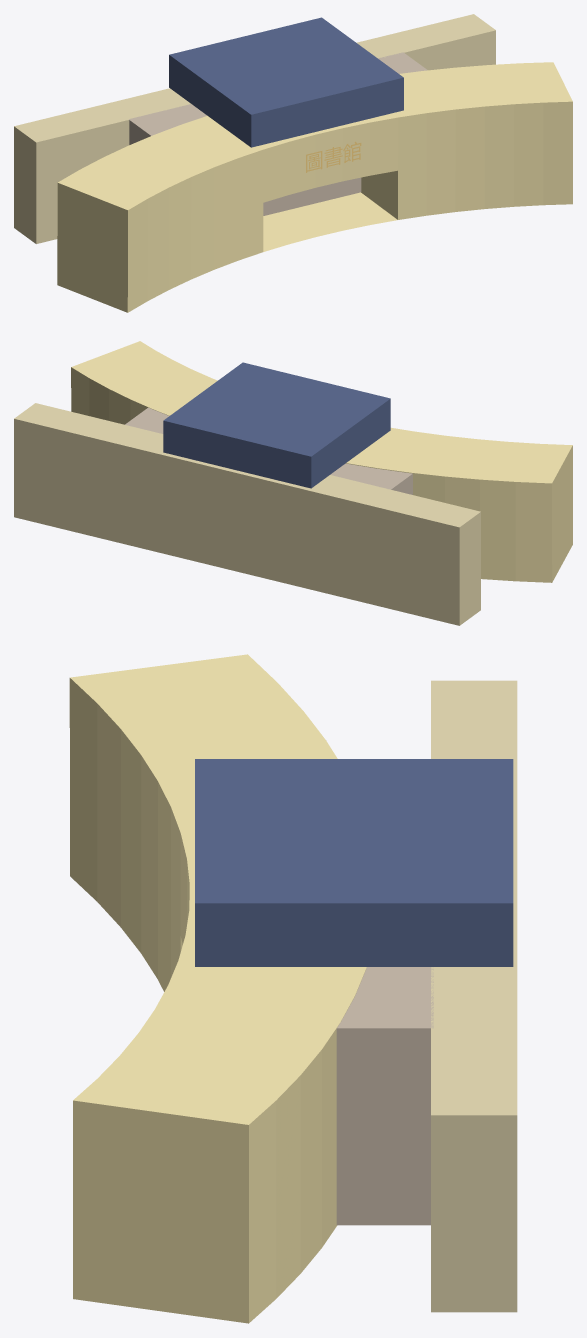
The model's file is 图书馆2.glb.
The picture shows the model from 3 angles, top to bottom: view 1: azimuth 30°, elevation 25°; view 2: azimuth 150°, elevation 25°; view 3: azimuth 270°, elevation 25°; orthographic projection. The views are drawn at different scales.
Parts seen in each view (by area): view 1: Cube, 平面, 立方体.001, 立方体, 文本; view 2: 立方体.001, Cube, 平面, 立方体; view 3: Cube, 平面, 立方体.001, 立方体.
Boxes of the visible parts, <box> form: Cube: <box>57,62,572,312</box>; 平面: <box>169,17,403,147</box>; 立方体.001: <box>14,14,495,243</box>; 立方体: <box>129,52,427,215</box>; 文本: <box>306,142,361,172</box>; 立方体.001: <box>14,403,480,625</box>; Cube: <box>71,341,572,582</box>; 平面: <box>163,362,390,488</box>; 立方体: <box>125,407,412,494</box>; Cube: <box>69,654,366,1323</box>; 平面: <box>195,759,513,966</box>; 立方体.001: <box>431,680,517,1312</box>; 立方体: <box>336,967,433,1225</box>.
Bounding box in the file's own units: 20.64 × 5.45 × 8.32.
